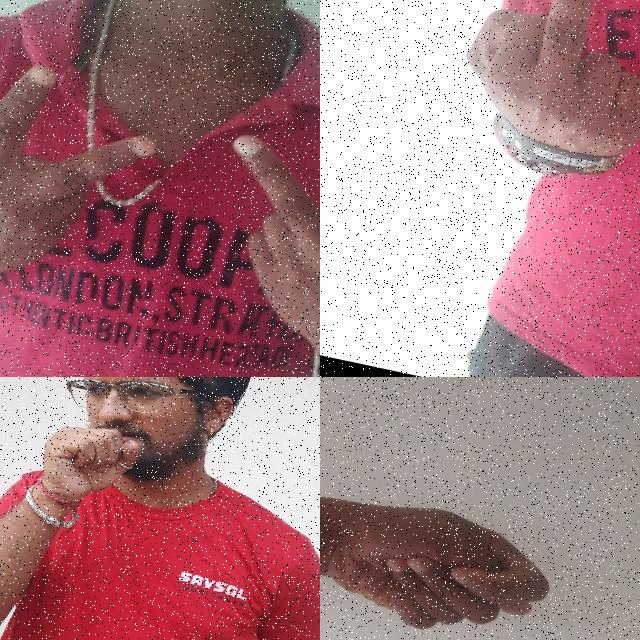Dulya: (320, 475, 563, 640)
Fist Mouth: (6, 377, 254, 557)
Middle Finger: (439, 0, 640, 199)
Reversed Victory: (0, 42, 174, 345), (182, 91, 320, 377)
